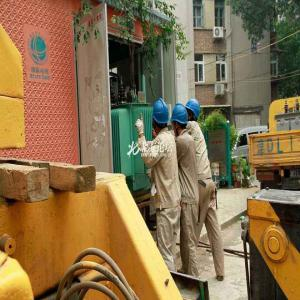blue: (151, 99, 169, 135), (171, 103, 187, 135), (187, 98, 201, 126)
